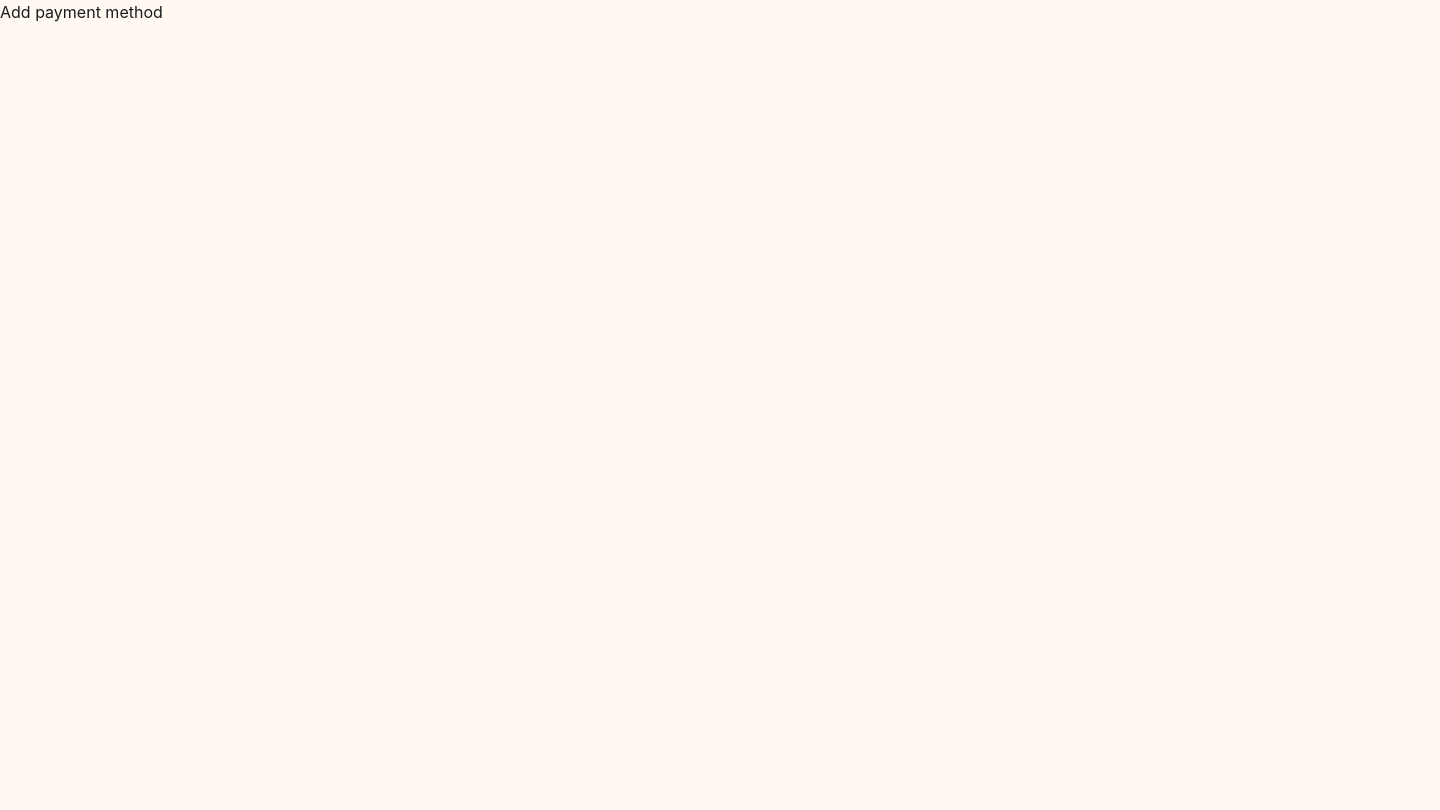
Test: NewPaymentMethodDialog › renders closed with a children trigger and opens on click (uncontrolled)
The image size is (1440, 810).
Expected: the text "New payment method" is not shown
Click the button "Add payment method" at x=81, y=12, box [0, 0, 163, 24]
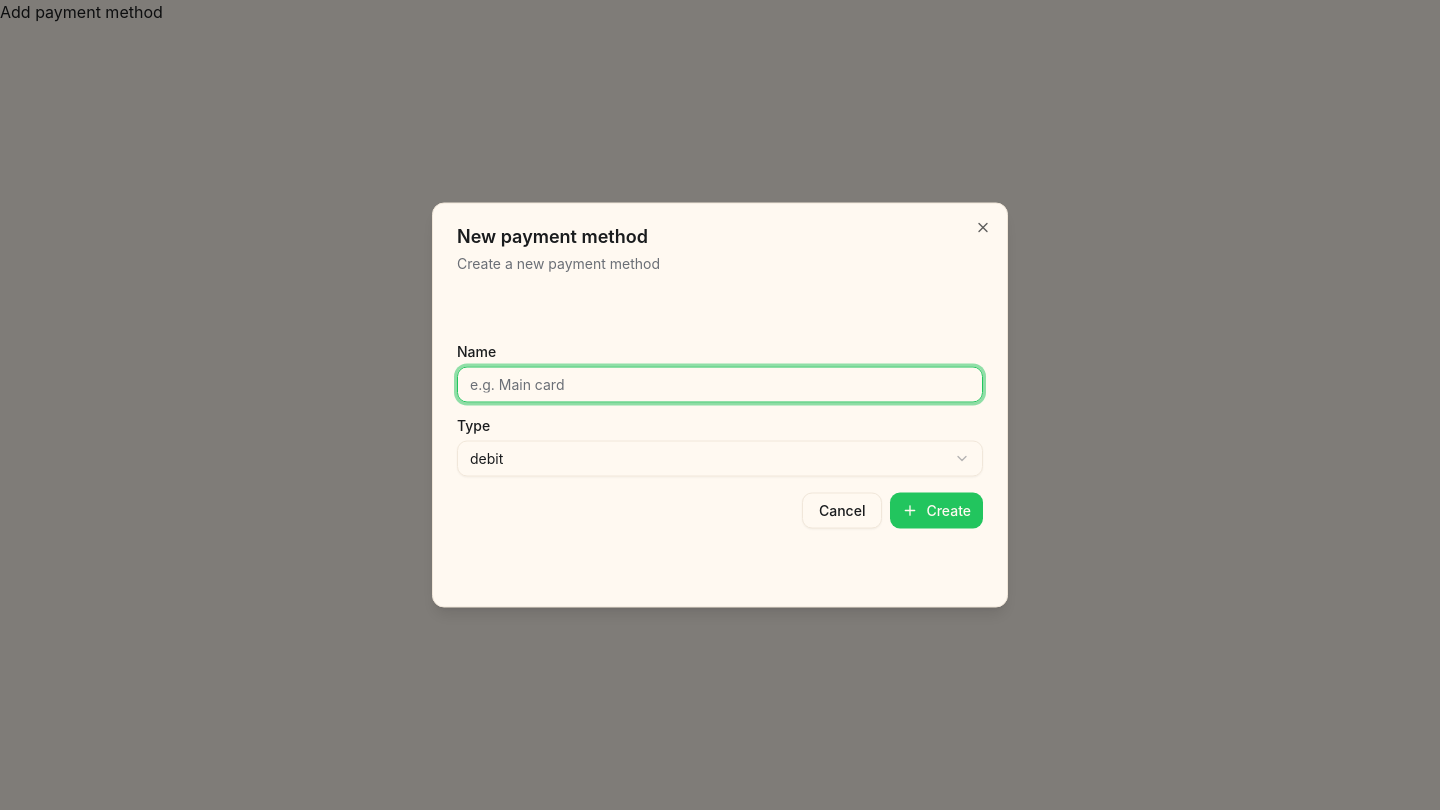
Now the heading "New payment method" is shown, box [457, 226, 648, 246]
Now the text "Create a new payment method" is shown, box [457, 254, 660, 272]
